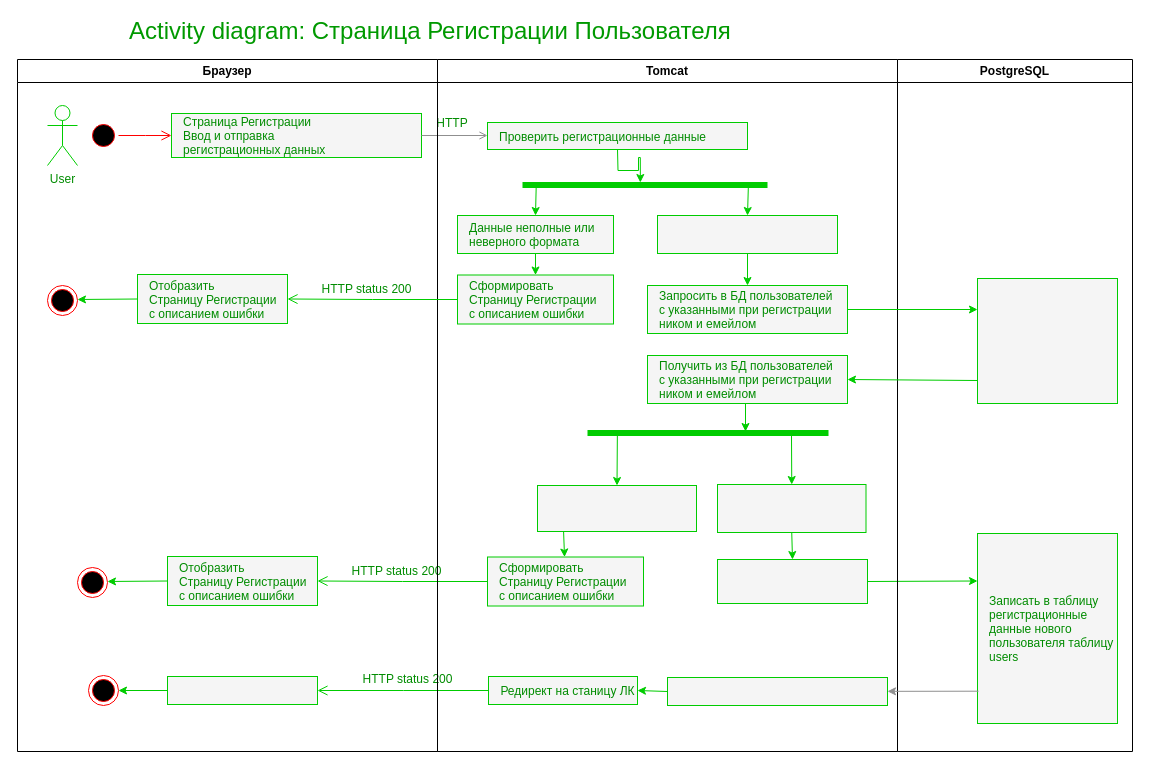
Some shapes in this 1150 by 769 pixel diagram are drawn without their labels. The centre of each missing label's shape, as x and y in pixels:
"Данные верны" goes at (x=747, y=234).
"Запись о пользователе с таким ником или емейлом в БД есть" goes at (x=616, y=508).
"Найти пользователей с указанными при регистрации ником и емейлом в таблице users" goes at (x=1047, y=341).
"Отобразить страницу ЛК пользователя" goes at (x=242, y=690).
"Создать HTTP сессию и внести туда данные пользователя" goes at (x=777, y=691).
"Сохранить регистрационные данные" goes at (x=792, y=581).
"Таких данных в БД нет" goes at (x=791, y=508).
